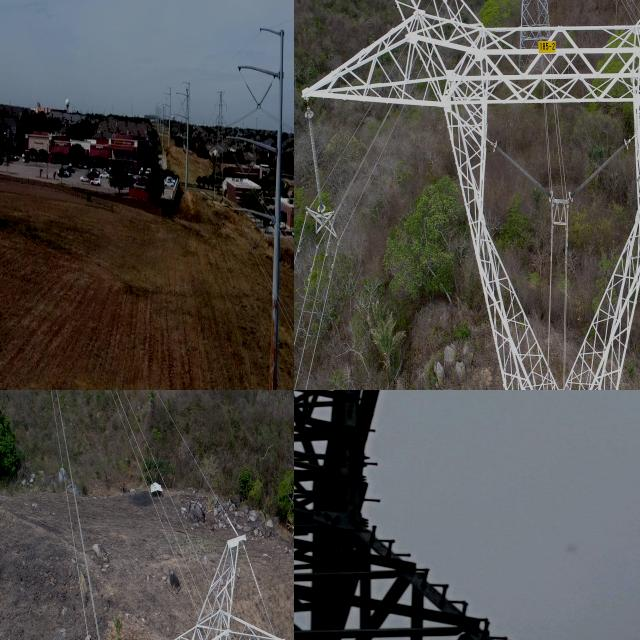杆塔: (294, 0, 640, 390), (294, 390, 514, 640), (0, 518, 284, 640), (208, 82, 232, 208)
正常电缆: (303, 241, 343, 390), (294, 239, 333, 390), (294, 240, 322, 364)
正常绝缘子: (567, 136, 630, 205), (491, 140, 553, 203), (297, 116, 330, 217), (256, 81, 274, 110), (244, 80, 261, 109), (232, 152, 249, 180), (244, 153, 260, 180)
